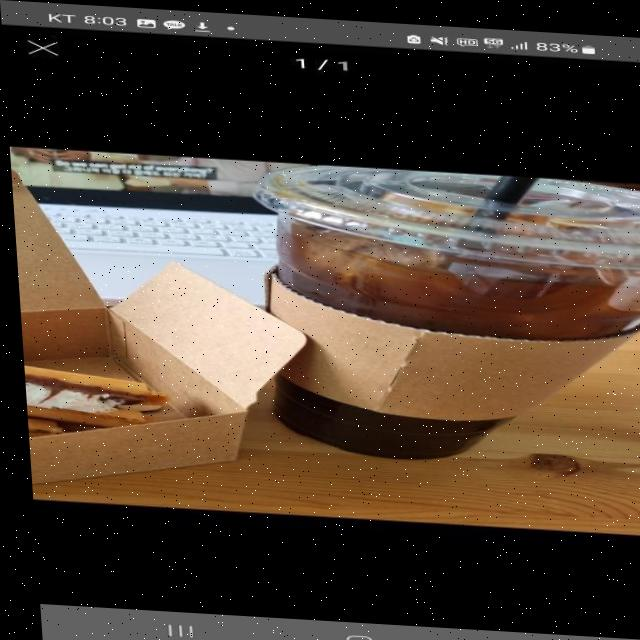cup: (254, 164, 640, 456)
